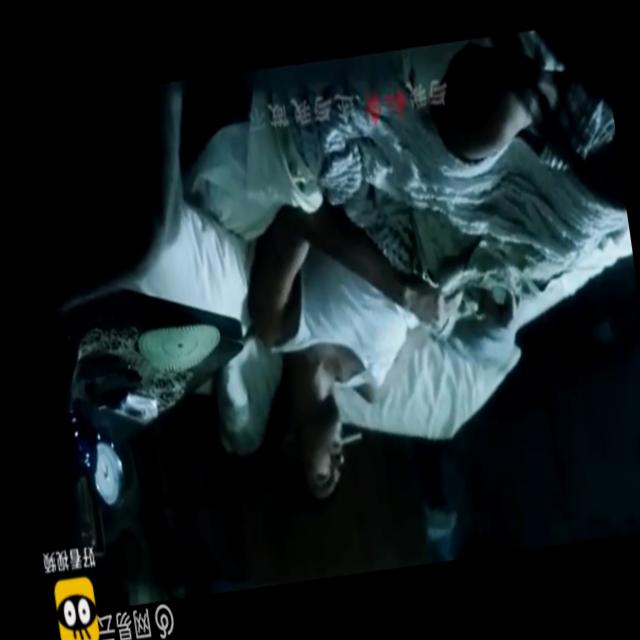smoke: (338, 426, 366, 450)
